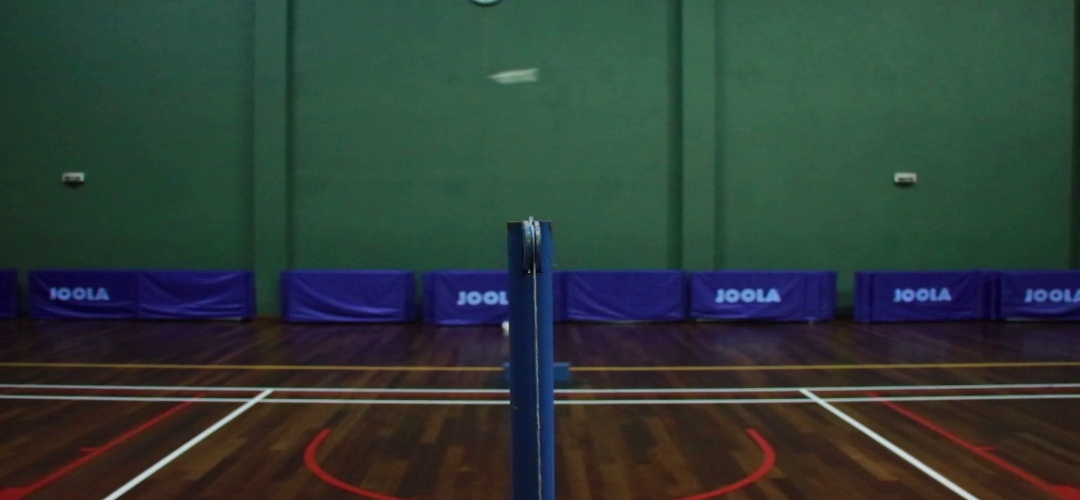c1: (241, 394, 272, 411)
c2: (794, 394, 845, 408)
net_level: (506, 221, 555, 284)
shuttle: (490, 67, 544, 91)
